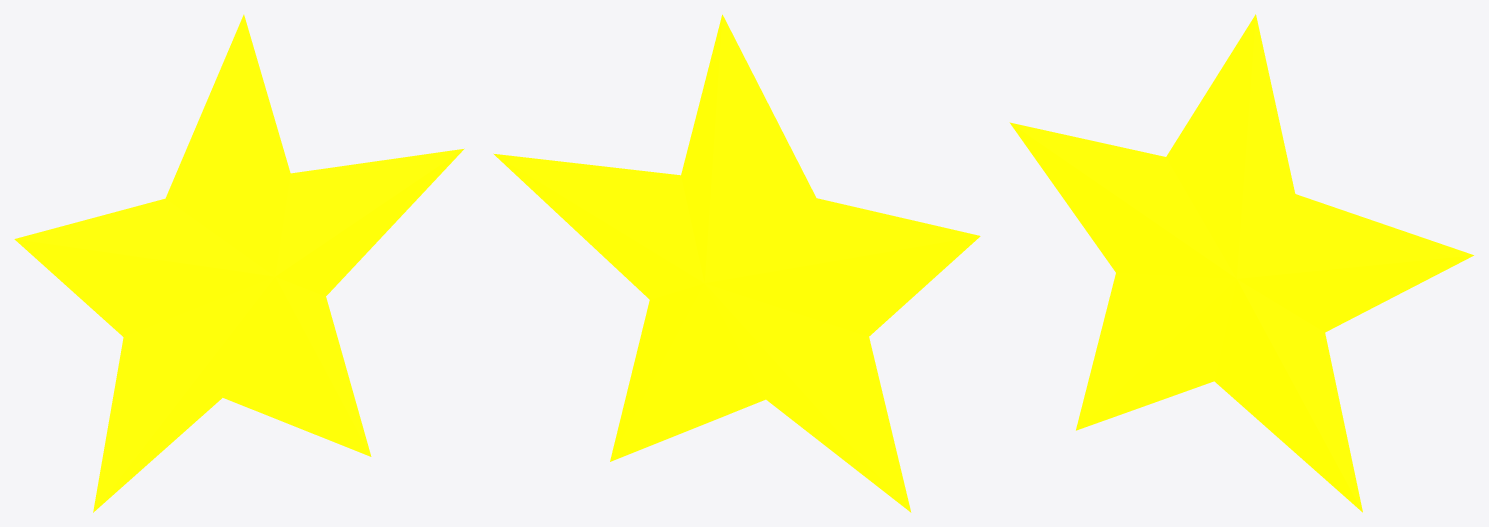
The model's file is star.glb.
The picture shows the model from 3 angles, left to right: view 1: azimuth 30°, elevation 25°; view 2: azimuth 150°, elevation 25°; view 3: azimuth 330°, elevation 25°; orthographic projection. The views are drawn at different scales.
Visible parts, largest first — view 1: estrellica; view 2: estrellica; view 3: estrellica.
Boxes of the visible parts, bbox=[...] form: estrellica: bbox=[14, 14, 464, 512]; estrellica: bbox=[493, 14, 980, 512]; estrellica: bbox=[1009, 14, 1473, 512].
Bounding box in the file's own units: 15.67 × 15.17 × 2.27.
